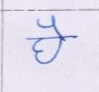ai_matra: (37, 18, 66, 36)
